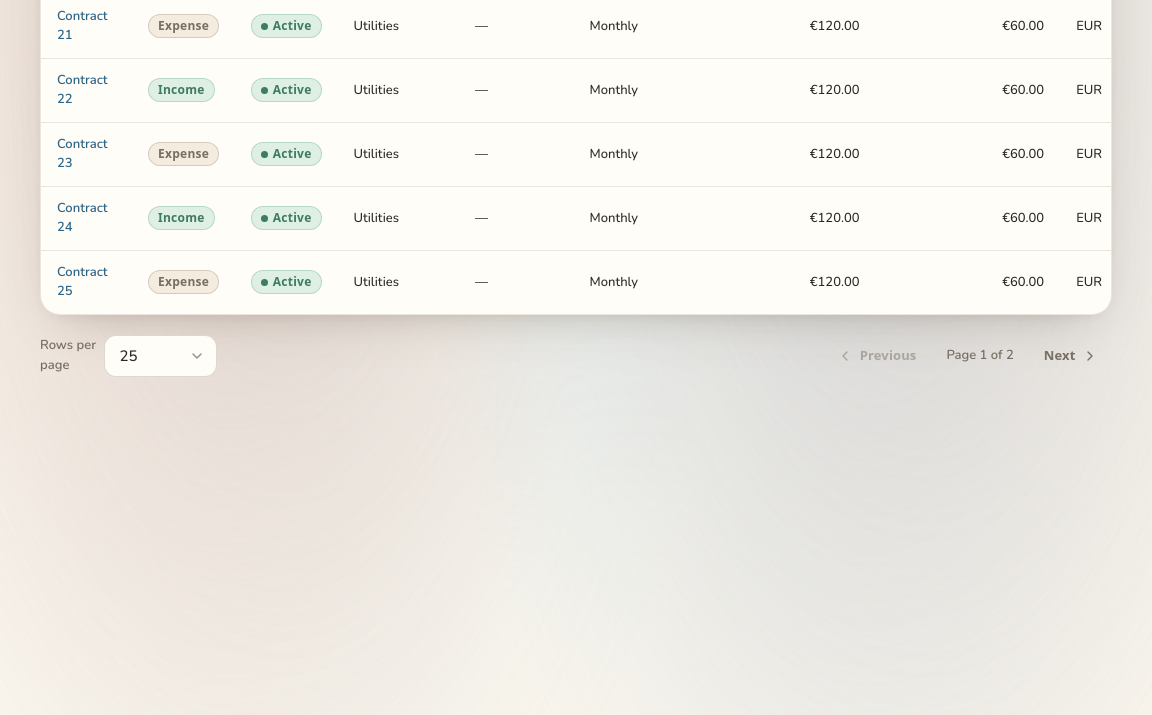
it: Opex contracts table › paginates through the result set
(page scrolled)
Check: the text "Page 1 of 2" is shown, box [946, 346, 1014, 366]
Check: the text "Contract 26" is not shown
Click the button "Next" at (1071, 356), box [1030, 340, 1112, 372]
(page scrolled)
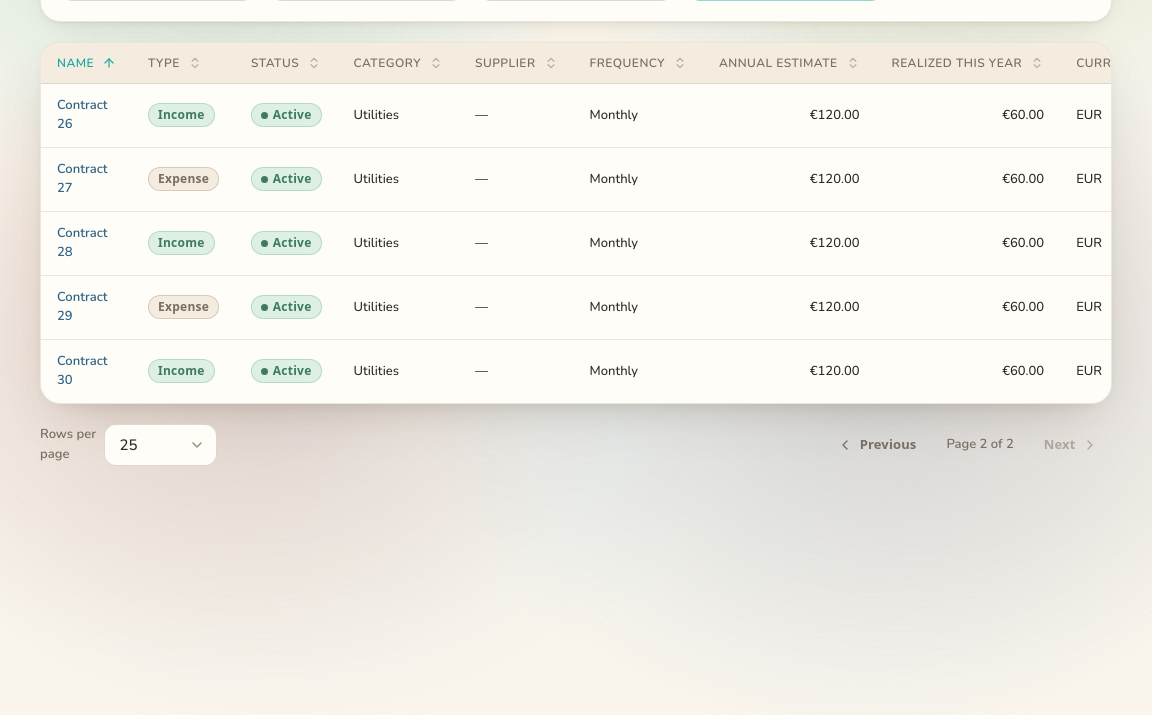
Check: the button "Contract 26" is shown, box [57, 96, 116, 135]
Check: the text "Page 2 of 2" is shown, box [946, 435, 1014, 455]
